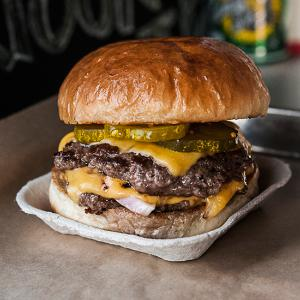cheeseburger_475cal: (38, 29, 270, 249)
